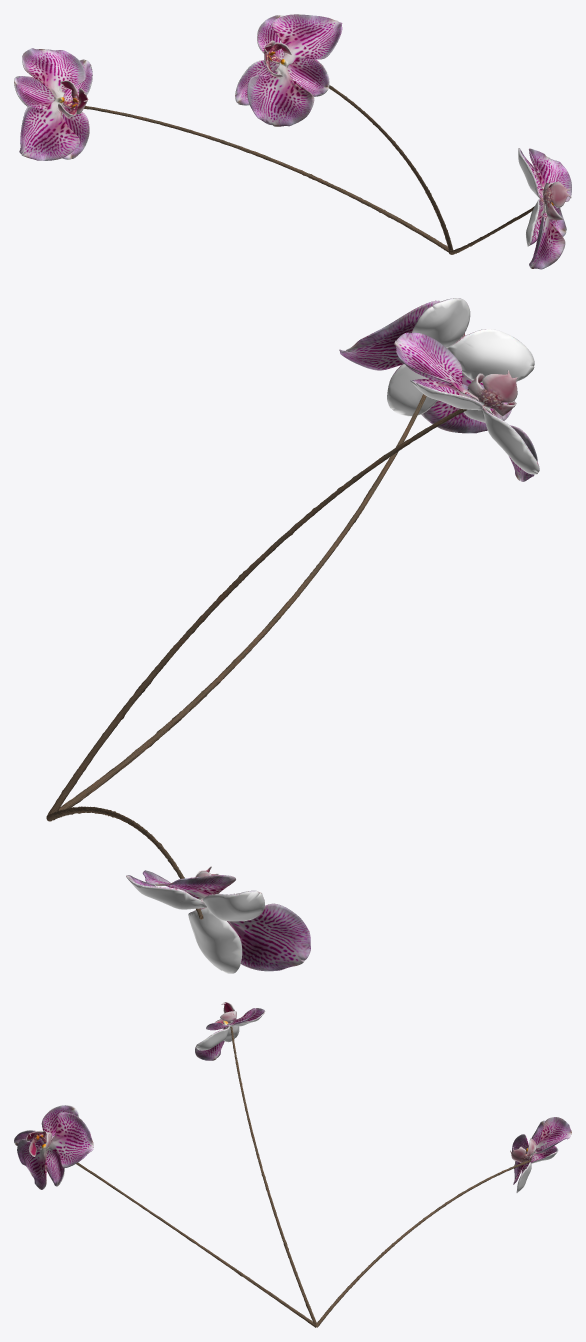
Rendered from kanan.glb.
The picture shows the model from 3 angles, top to bottom: view 1: azimuth 30°, elevation 25°; view 2: azimuth 150°, elevation 25°; view 3: azimuth 270°, elevation 25°; orthographic projection. The views are drawn at different scales.
Parts seen in each view (by area): view 1: Bake 1.003, Bake 1.004, Bake 1.002, Orchid Flowers on Branch.001; view 2: Bake 1.002, Bake 1.004, Orchid Flowers on Branch.001, Bake 1.003; view 3: Bake 1.002, Orchid Flowers on Branch.001, Bake 1.004, Bake 1.003.
Part boxes in pixels (x1,y1,x2,y2): Bake 1.003: (235,14,342,126); Bake 1.004: (14,48,92,160); Bake 1.002: (518,148,571,269); Orchid Flowers on Branch.001: (84,85,534,254); Bake 1.002: (339,298,534,433); Bake 1.004: (126,866,310,973); Orchid Flowers on Branch.001: (46,394,467,919); Bake 1.003: (394,332,539,481); Bake 1.002: (14,1105,93,1189); Orchid Flowers on Branch.001: (76,1026,530,1327); Bake 1.004: (510,1117,571,1192); Bake 1.003: (195,1002,265,1060).
Size of the model in its own units: 6.92 by 6.94 by 14.54.
Materials: 2 (2 with a texture image).
